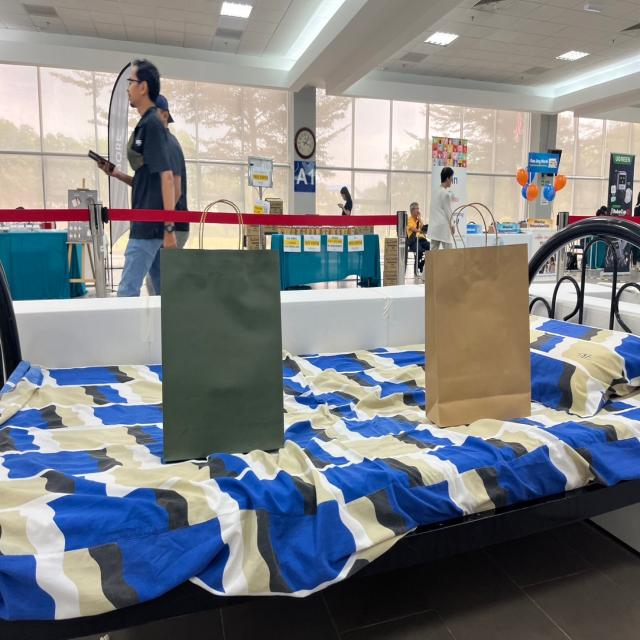bag: (174, 191, 276, 442), (441, 193, 523, 412)
